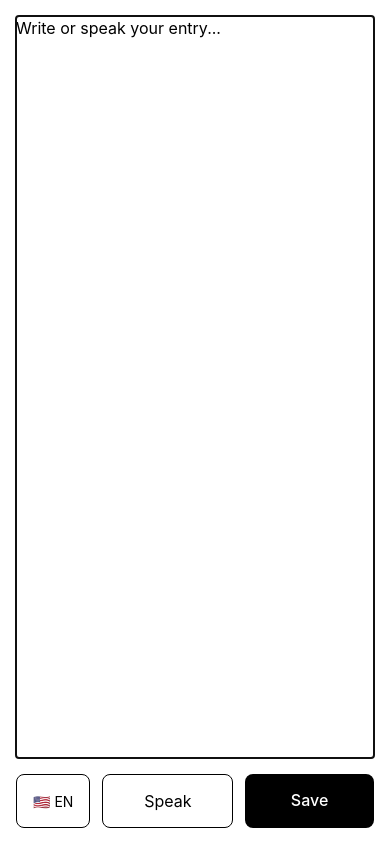
Test: CreateEntryScreen › toggles language from English to Italian
Click the text "🇺🇸 EN": (53, 801) [33,792,73,810]
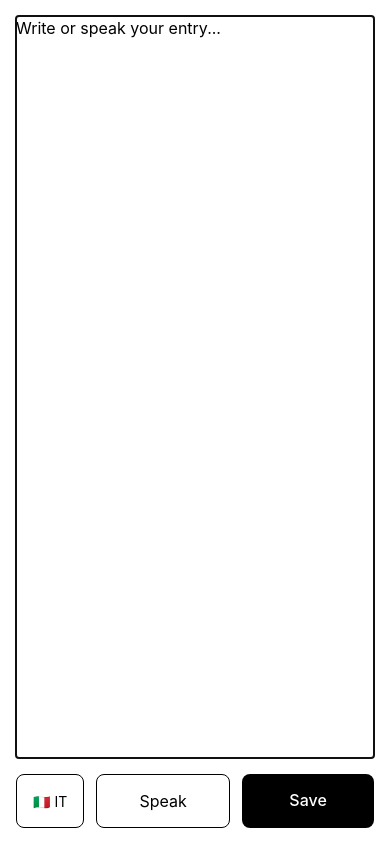
Result: the text "🇮🇹 IT" is shown at [33,792,67,810]
